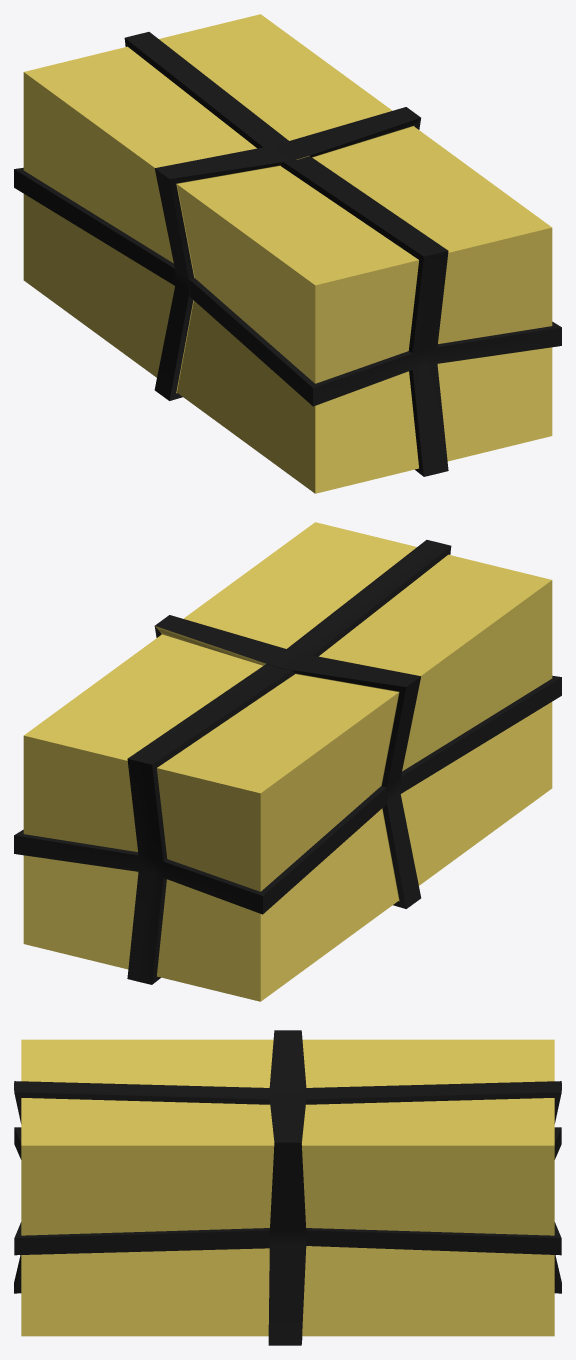
File: rice farm.fbx
The picture shows the model from 3 angles, top to bottom: view 1: azimuth 30°, elevation 25°; view 2: azimuth 150°, elevation 25°; view 3: azimuth 270°, elevation 25°; orthographic projection. The views are drawn at different scales.
Visible parts, largest first — view 1: pCube207; view 2: pCube207; view 3: pCube207.
Boxes of the visible parts, x1,y1,x2,y2 form: pCube207: (14, 14, 561, 493); pCube207: (14, 522, 561, 1001); pCube207: (14, 1030, 561, 1345).
Size of the model in its own units: 2.33 by 1.96 by 4.79.
